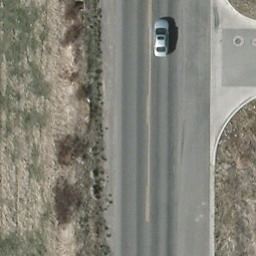car: (153, 20, 169, 58)
